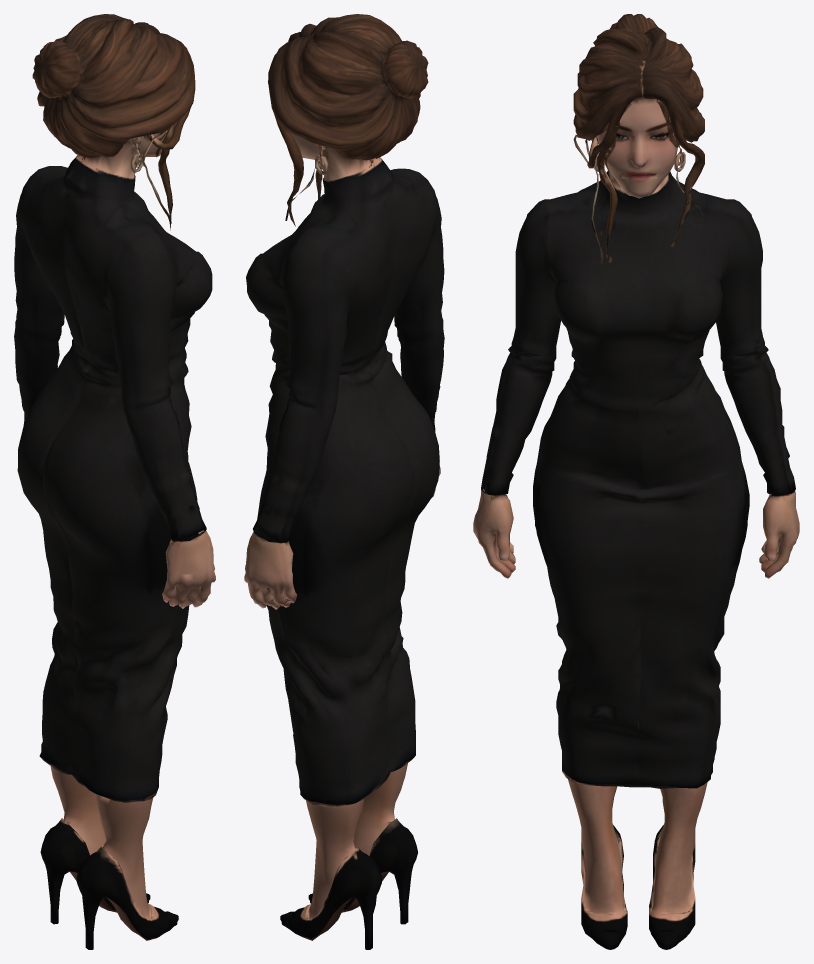
The model's file is female-retopology-v3.fbx.
3 views of the same model, side by side, from view 1: azimuth 30°, elevation 25°; view 2: azimuth 150°, elevation 25°; view 3: azimuth 270°, elevation 25° (orthographic).
Parts seen in each view (by area): view 1: tripo_node_86f1c1fe-5aa0-4c74-9275-ef5b4; view 2: tripo_node_86f1c1fe-5aa0-4c74-9275-ef5b4; view 3: tripo_node_86f1c1fe-5aa0-4c74-9275-ef5b4.
Part boxes in pixels (x1,y1,x2,y2): tripo_node_86f1c1fe-5aa0-4c74-9275-ef5b4: (14, 14, 215, 949); tripo_node_86f1c1fe-5aa0-4c74-9275-ef5b4: (244, 14, 444, 949); tripo_node_86f1c1fe-5aa0-4c74-9275-ef5b4: (473, 14, 799, 949).
Size of the model in its own units: 0.1738 by 0.998 by 0.3301.
Materials: 1 (1 with a texture image).
